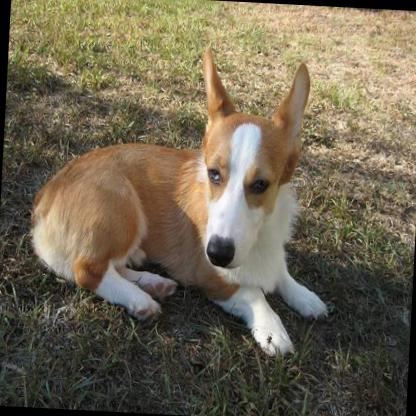Pembroke: (18, 28, 349, 365)
